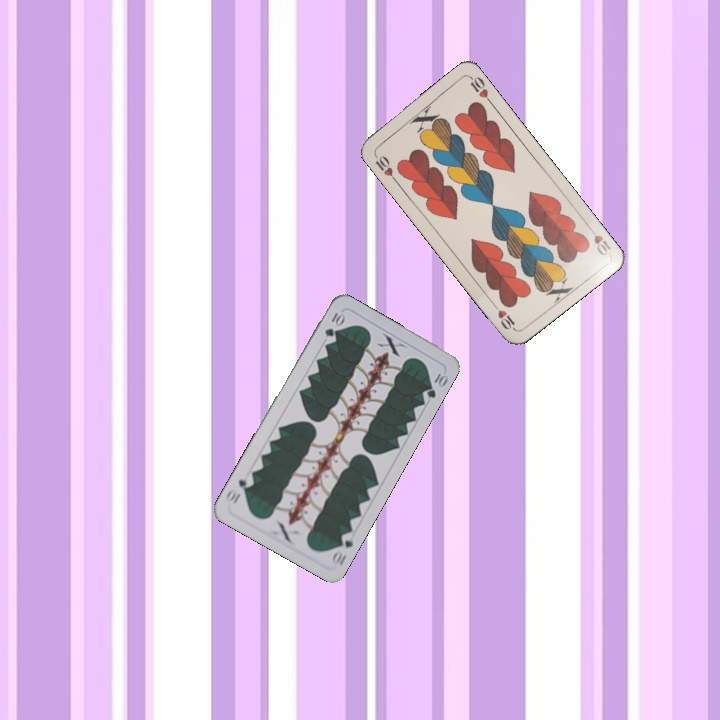G10: (328, 528, 356, 568), (320, 307, 347, 339)
H10: (583, 221, 614, 258), (370, 149, 399, 184)
